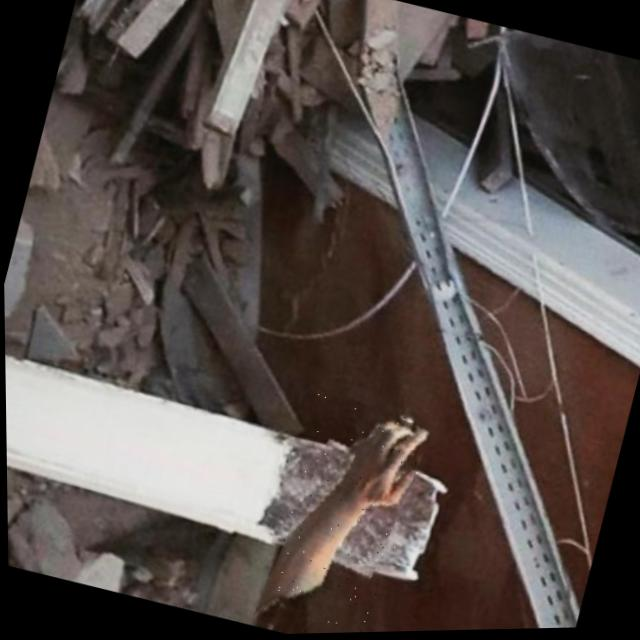Person in Rubble: (253, 391, 426, 636)
